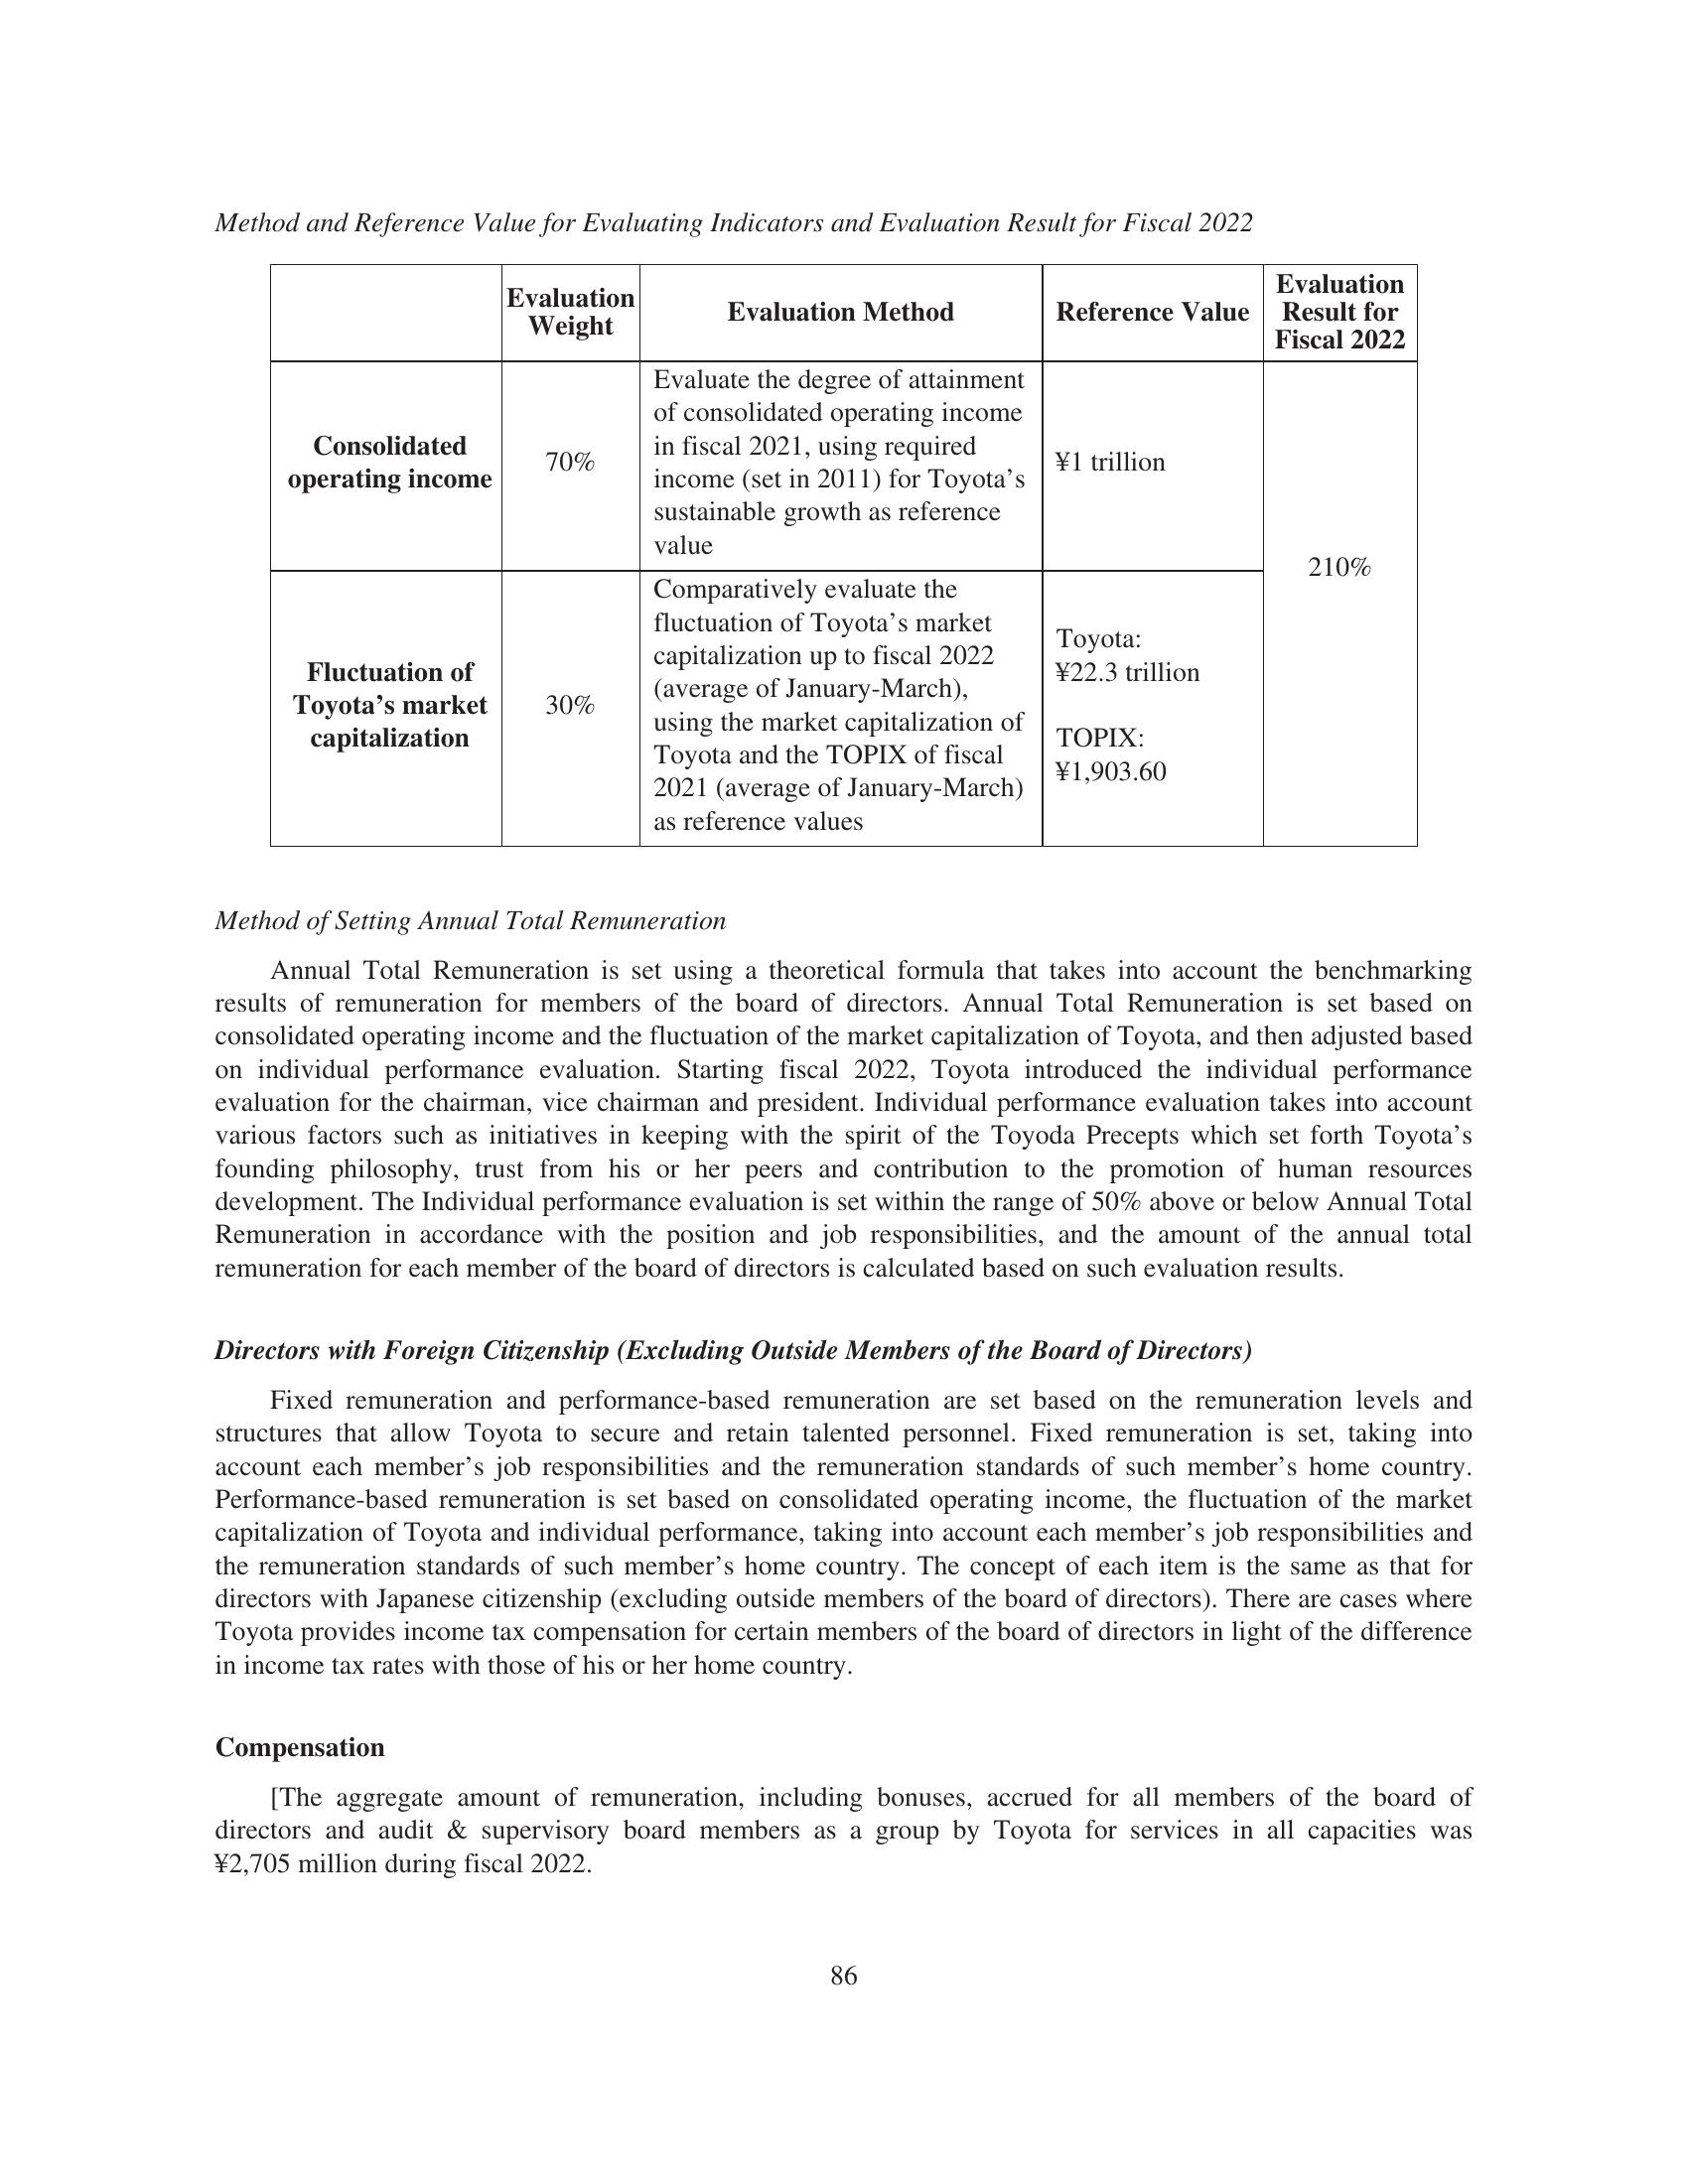Footer: (0, 1950, 1688, 2184)
Header: (0, 0, 1688, 170)
Table: (170, 246, 1521, 842)
